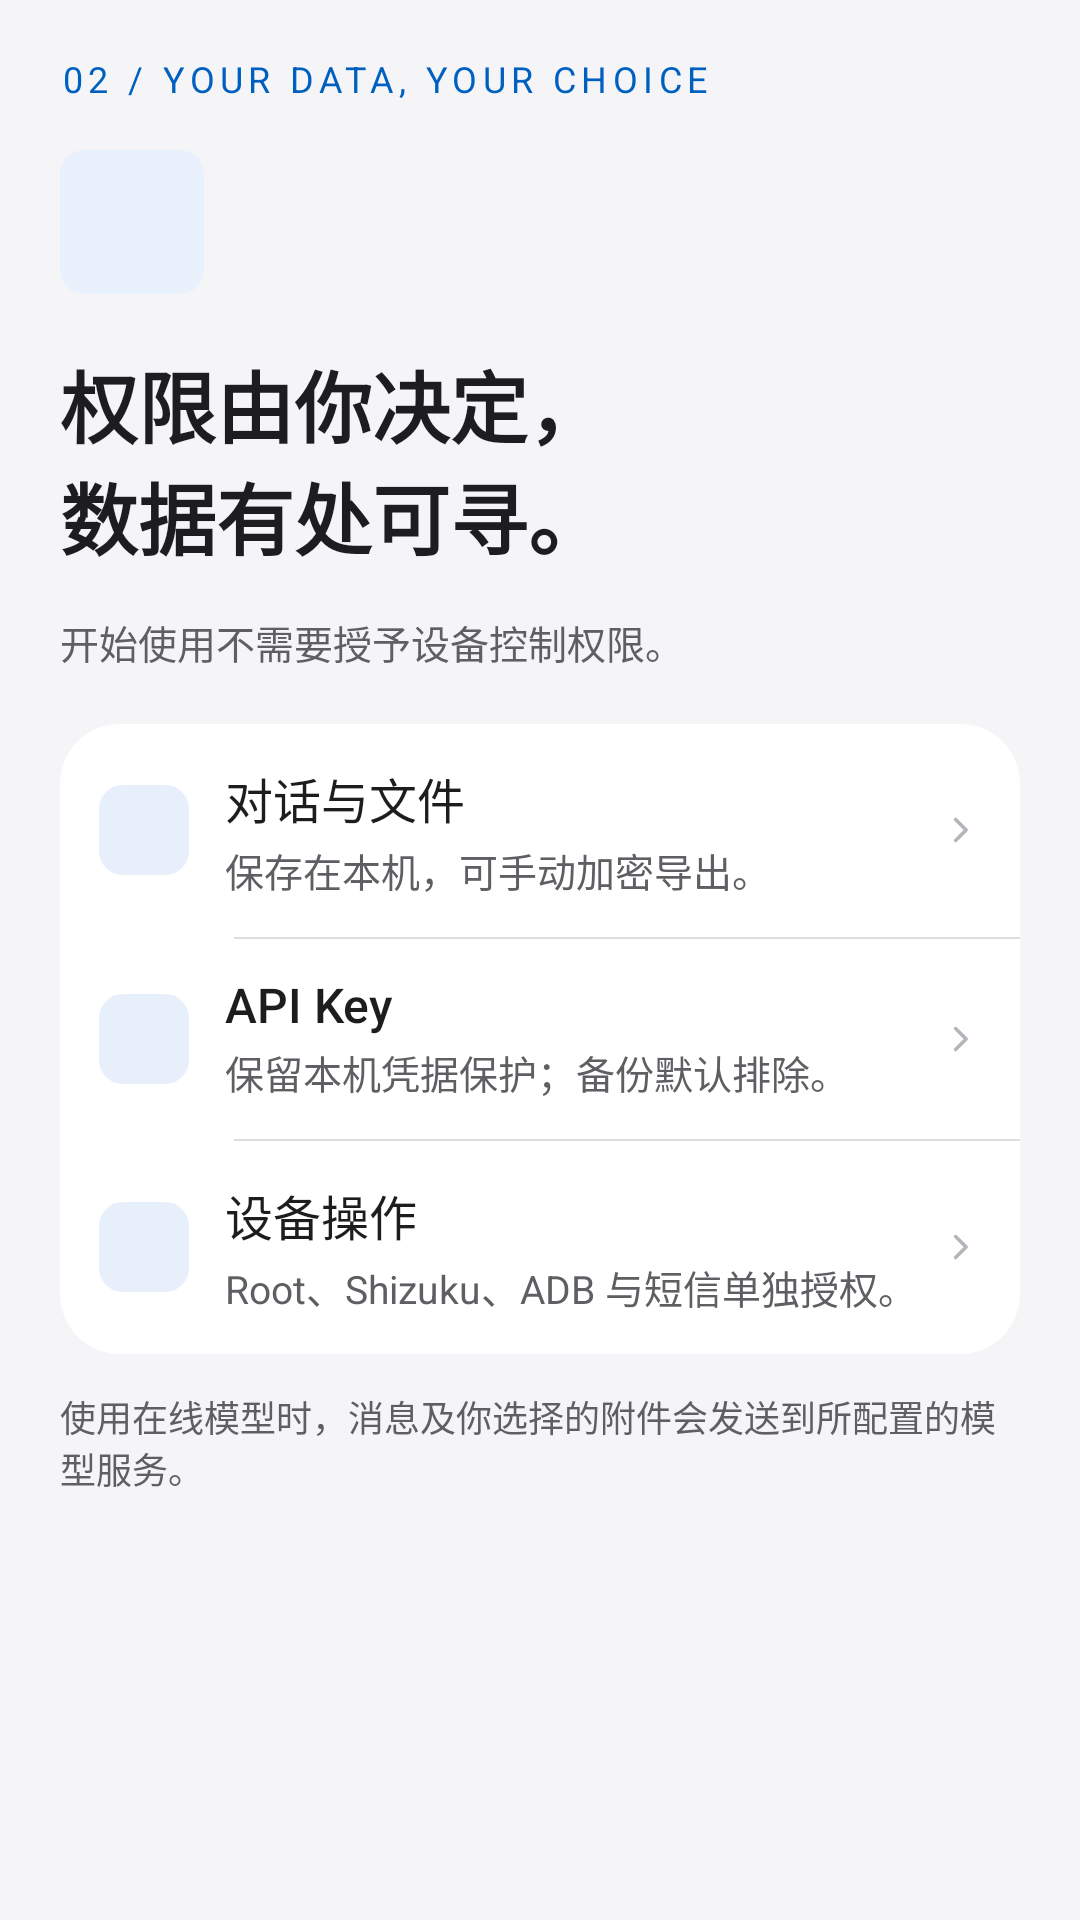

Where icons sit on this 1080×1920 app screen, as (x1, y1, x2, y2):
ui chevron: (954, 818, 968, 842), (954, 1027, 968, 1051), (954, 1235, 968, 1259)
